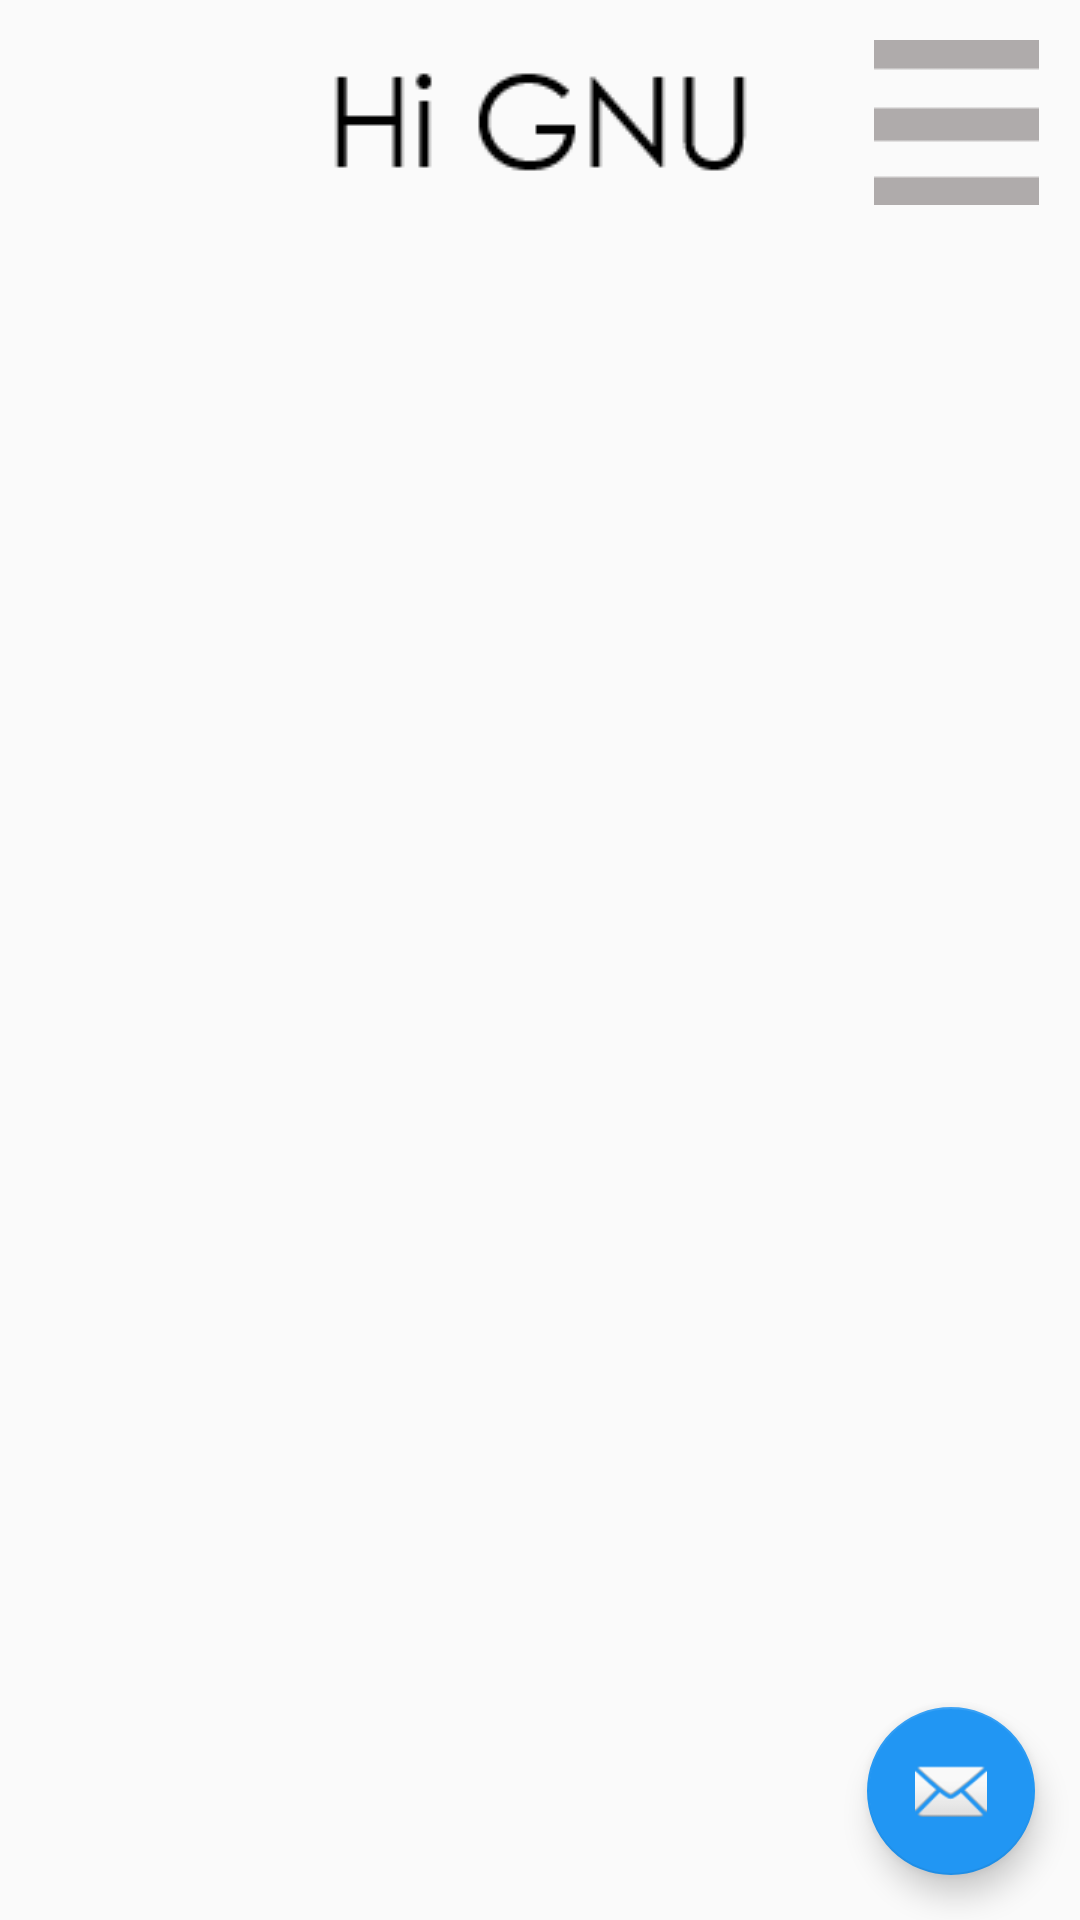

Where icons sit on this 1080x1920 app screen, as box(x1, y1, x2, y2):
email: box(867, 1707, 1035, 1875)
